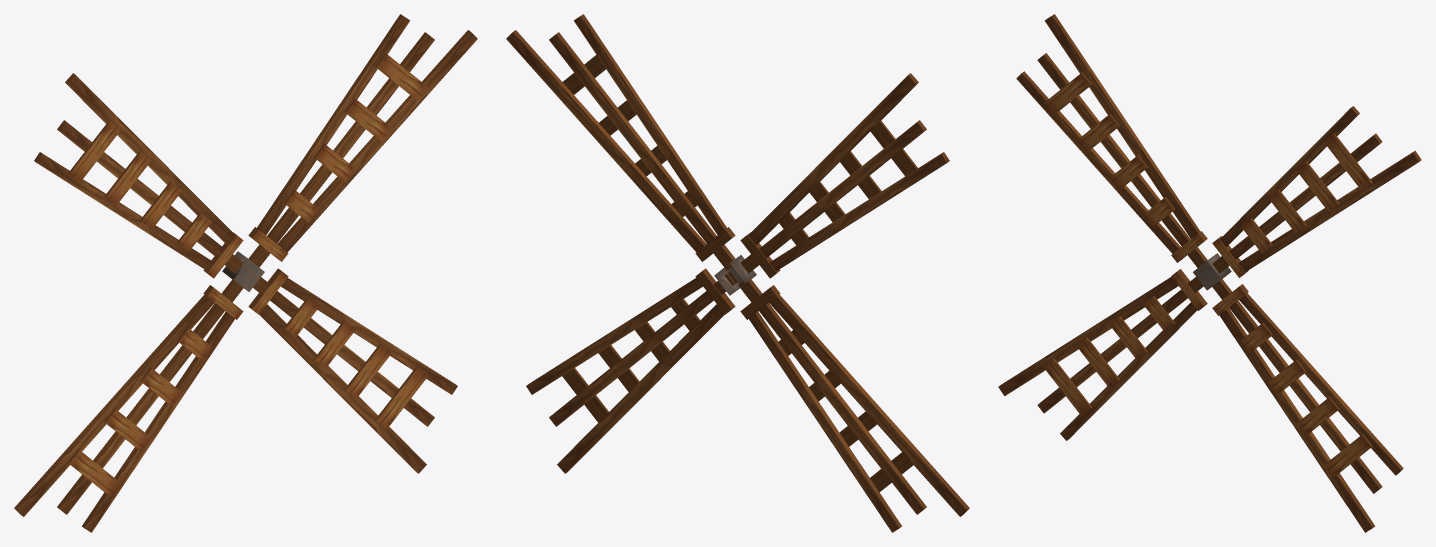
Rendered from Mill_wings.FBX.
3 views of the same model, side by side, from view 1: azimuth 30°, elevation 25°; view 2: azimuth 150°, elevation 25°; view 3: azimuth 330°, elevation 25° (orthographic). The views are drawn at different scales.
Parts seen in each view (by area): view 1: Mill_wings; view 2: Mill_wings; view 3: Mill_wings.
Part boxes in pixels (bbox=[...]): Mill_wings: bbox=[14, 14, 477, 532]; Mill_wings: bbox=[506, 14, 969, 532]; Mill_wings: bbox=[998, 14, 1421, 532].
Size of what is drawn, in the model's own units: 1002 by 43 by 1002.
